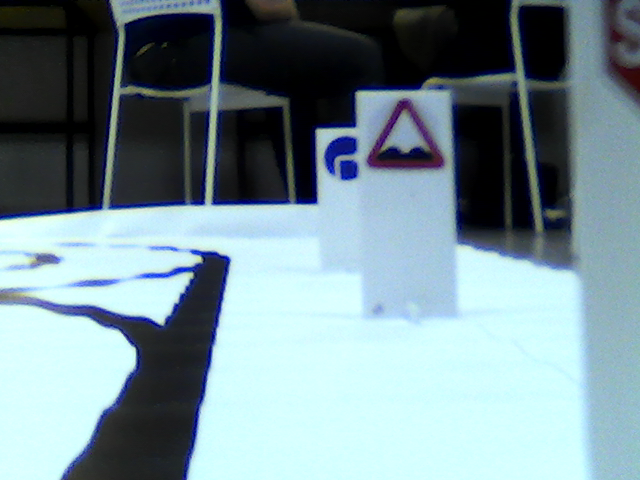Nerov: (365, 97, 446, 171)
